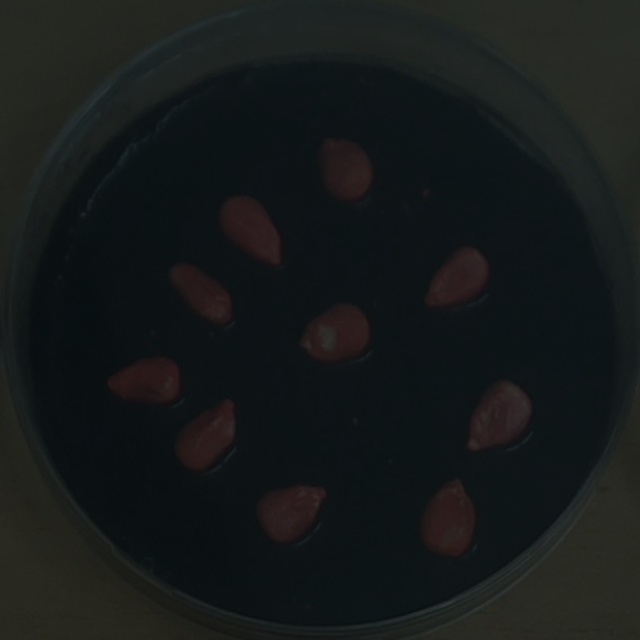Zea mays: (458, 370, 539, 463), (410, 468, 485, 565), (212, 186, 291, 276), (289, 292, 377, 368), (166, 392, 243, 478), (248, 475, 335, 551), (414, 236, 496, 316), (159, 252, 239, 333), (97, 347, 186, 411), (309, 129, 379, 208)
